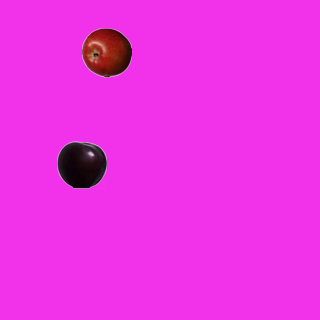Apple Braeburn: (81, 27, 131, 77)
Cherry Wax Black: (56, 139, 106, 189)
